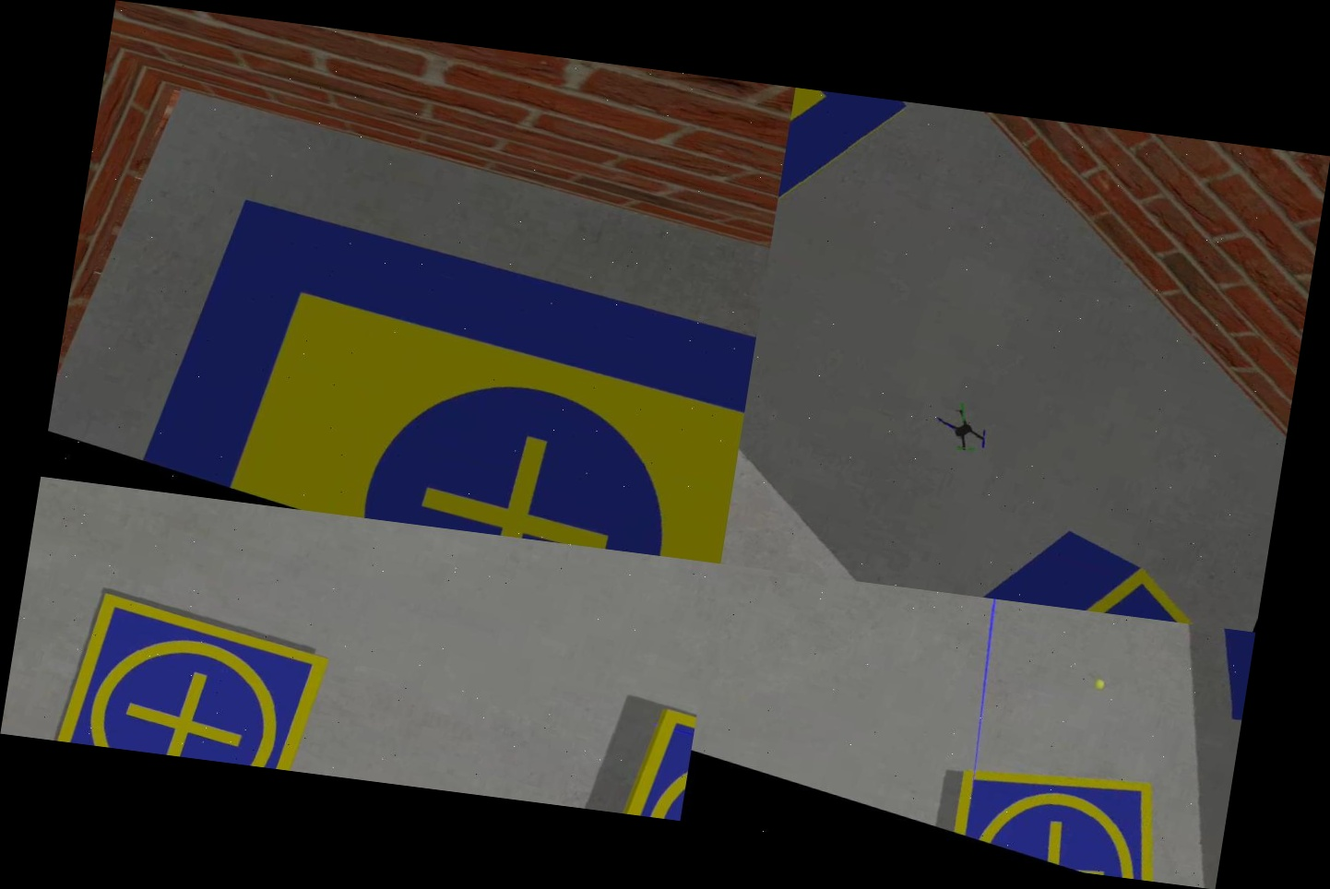large_base: (135, 164, 772, 563)
small_base: (33, 579, 342, 774), (940, 725, 1201, 884), (981, 531, 1265, 633)
